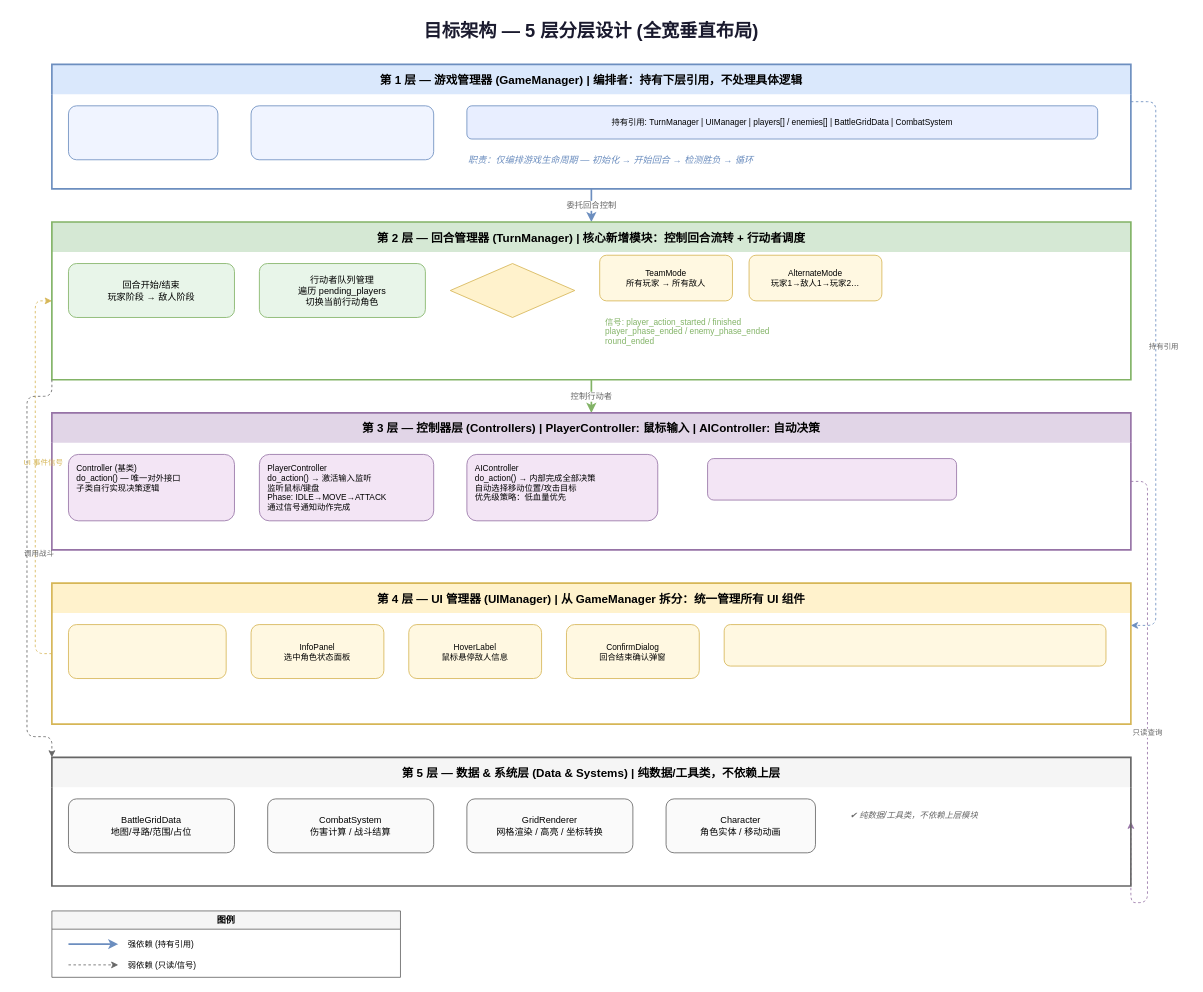
Image size: 1203x992. Some labels were removed from this diagram. The centre of each missing label's shape, as x and y in pixels:
ActionMenu 攻击 / 等待 / 技能 / 结束 / 撤销: the point at 147,651
⚠ TurnManager 只管调用 do_action() 不关心内部是玩家输入还是 AI 决策: the point at 832,479
⚠ UIManager 统一创建、显示、信号转发 GameManager 不再直接创建 UI 元素: the point at 914,645
回合模式 (可扩展策略): the point at 512,290
游戏初始化 (地图 + 角色 + 系统): the point at 143,132
游戏流程控制 开始 → 回合循环 → 胜负判定: the point at 342,132
